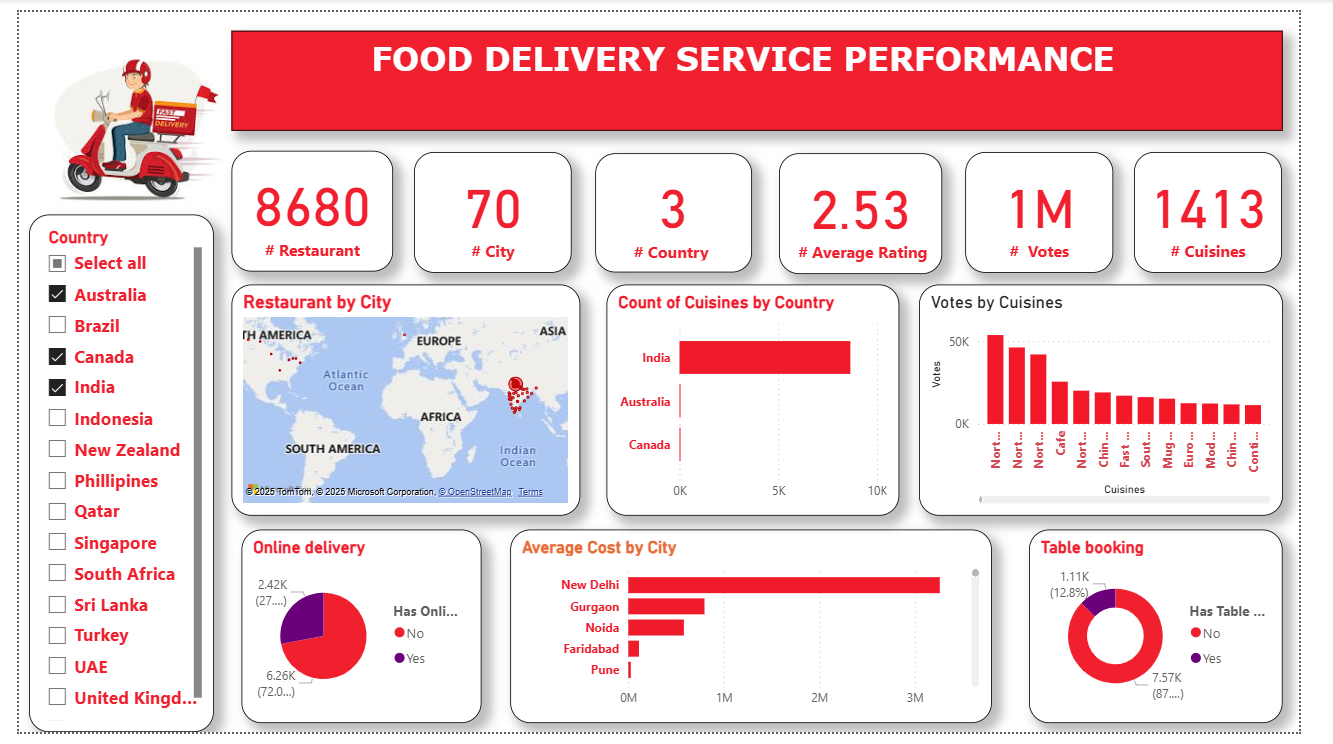

What the dashboard file says about the page in this screenshot:
{"tool":"powerbi","page":{"name":"Page 1","canvas":[1280,720],"ordinal":0},"visuals":[{"type":"image","box":[0,0,222.5,232.5],"z":1000},{"type":"textbox","box":[0,259,222,232],"z":2000},{"type":"textbox","box":[212.5,18.8,1051.2,100],"z":3000},{"type":"card","fields":{"Values":["CountNonNull(Table1.Restaurant ID)"]},"box":[212.7,138.6,161.9,120.8],"z":4000},{"type":"card","fields":{"Values":["Count(Table1.City)"]},"box":[395.2,140,157.8,120.8],"z":5000},{"type":"card","fields":{"Values":["Count(Table1.Country Code)"]},"box":[576.3,141.3,156.4,119.4],"z":6000},{"type":"card","fields":{"Values":["Avg(Table1.Aggregate rating)"]},"box":[760.2,141.3,163.3,120.8],"z":7000},{"type":"card","fields":{"Values":["Sum(Table1.Votes)"]},"box":[946.8,140,148.2,120.8],"z":8000},{"type":"card","fields":{"Values":["Count(Table1.Cuisines)"]},"box":[1115.6,140,148.2,120.8],"z":9000},{"type":"slicer","fields":{"Values":["Table2.Country"]},"box":[10,202.2,184.4,517.8],"z":10000},{"type":"pieChart","title":" Online delivery","fields":{"Category":["Table1.Has Online delivery"],"Y":["CountNonNull(Table1.Restaurant ID)"]},"box":[222.5,517.5,240,193.8],"z":11000},{"type":"donutChart","title":" Table booking","fields":{"Category":["Table1.Has Table booking"],"Y":["CountNonNull(Table1.Restaurant ID)"]},"box":[1010,517.5,253.8,193.8],"z":12000},{"type":"map","fields":{"Category":["Table1.City"],"Size":["CountNonNull(Table1.Restaurant ID)"]},"box":[212.5,272.5,348.8,231.2],"z":13000},{"type":"columnChart","fields":{"Category":["Table1.Cuisines"],"Y":["Sum(Table1.Votes)"]},"box":[900,272.5,363.8,231.2],"z":14000},{"type":"barChart","fields":{"Category":["Table1.City"],"Y":["Sum(Table1.Average Cost for two)"]},"box":[491.2,517.5,481.2,193.8],"z":15000},{"type":"barChart","fields":{"Category":["Table2.Country"],"Y":["CountNonNull(Table1.Cuisines)"]},"box":[587.5,272.5,292.5,231.2],"z":16000}]}

Visuals, with their boxes in screenshot pixels (x1, y1, x2, y2), scaled from the page's 1280x720 canvas onto the 1333x744 screenshot:
image: left=0, top=0, right=232, bottom=240
textbox: left=0, top=268, right=231, bottom=507
textbox: left=221, top=19, right=1316, bottom=123
card - CountNonNull(Table1.Restaurant ID): left=222, top=143, right=390, bottom=268
card - Count(Table1.City): left=412, top=145, right=576, bottom=269
card - Count(Table1.Country Code): left=600, top=146, right=763, bottom=269
card - Avg(Table1.Aggregate rating): left=792, top=146, right=962, bottom=271
card - Sum(Table1.Votes): left=986, top=145, right=1140, bottom=269
card - Count(Table1.Cuisines): left=1162, top=145, right=1316, bottom=269
slicer - Table2.Country: left=10, top=209, right=202, bottom=743
" Online delivery" pieChart: left=232, top=535, right=482, bottom=735
" Table booking" donutChart: left=1052, top=535, right=1316, bottom=735
map - Table1.City x CountNonNull(Table1.Restaurant ID): left=221, top=282, right=585, bottom=520
columnChart - Table1.Cuisines x Sum(Table1.Votes): left=937, top=282, right=1316, bottom=520
barChart - Table1.City x Sum(Table1.Average Cost for two): left=512, top=535, right=1013, bottom=735
barChart - Table2.Country x CountNonNull(Table1.Cuisines): left=612, top=282, right=916, bottom=520
